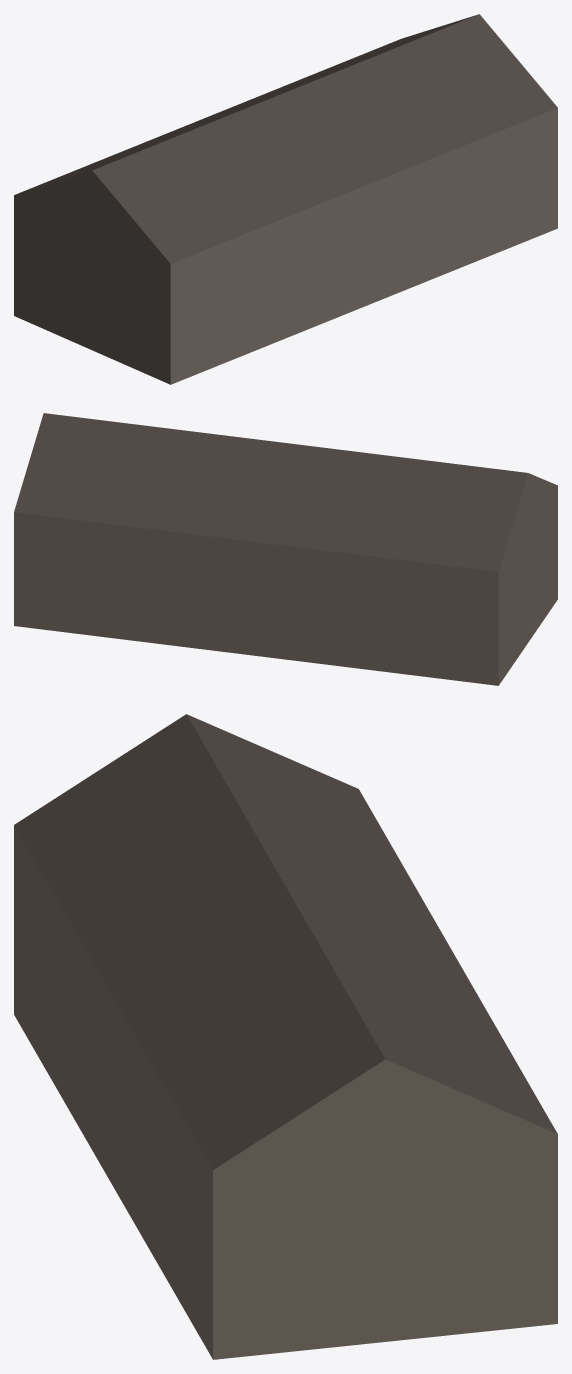
3 views of the same model, one above another, from view 1: azimuth 30°, elevation 25°; view 2: azimuth 150°, elevation 25°; view 3: azimuth 270°, elevation 25° (orthographic). The views are drawn at different scales.
Parts seen in each view (by area): view 1: HP-w372180436; view 2: HP-w372180436; view 3: HP-w372180436.
Part boxes in pixels (x1,y1,x2,y2): HP-w372180436: (14, 14, 557, 384); HP-w372180436: (14, 413, 557, 685); HP-w372180436: (14, 714, 557, 1359).
Size of the model in its own units: 25.87 by 8.94 by 15.6.
